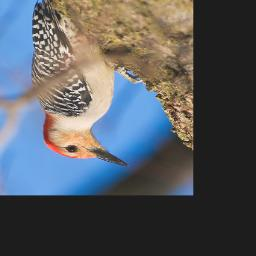Woodpecker: (31, 0, 130, 168)
